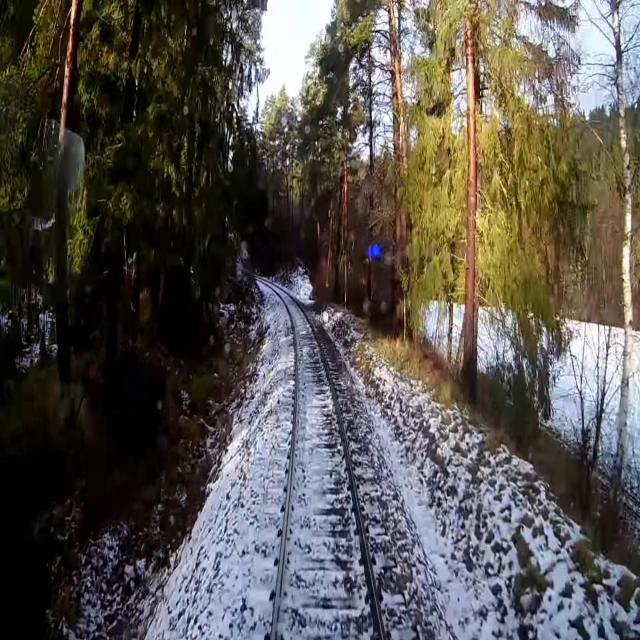rail-track: (268, 283, 380, 639)
